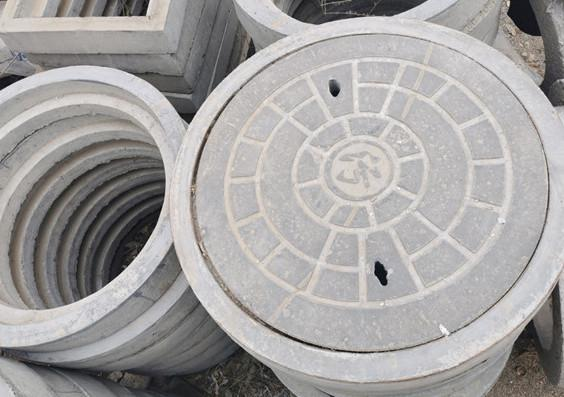wellcover: (181, 35, 546, 330)
